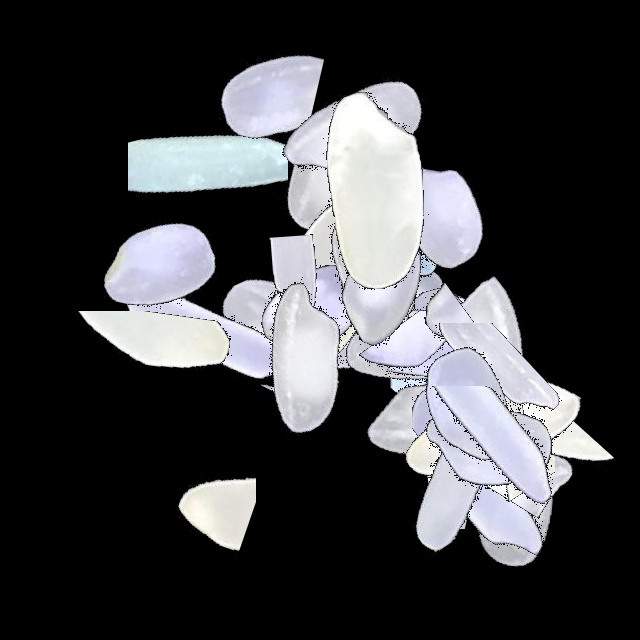Broken: (292, 121, 459, 371), (110, 4, 360, 166), (128, 79, 288, 329), (345, 386, 595, 545), (330, 388, 580, 544), (175, 129, 425, 280), (334, 323, 584, 470), (412, 281, 556, 531), (466, 310, 601, 560), (336, 309, 586, 443), (380, 383, 630, 516), (231, 176, 363, 426), (315, 311, 565, 440), (336, 324, 586, 445), (14, 311, 264, 430), (335, 341, 585, 459), (292, 412, 542, 529), (370, 268, 483, 518), (376, 224, 481, 474), (154, 368, 256, 618), (342, 409, 592, 497), (383, 304, 468, 554), (379, 223, 461, 473), (350, 318, 600, 395), (166, 320, 416, 396), (480, 326, 555, 576)
Full: (166, 202, 416, 452), (390, 370, 640, 620), (286, 173, 536, 423), (357, 364, 607, 614), (201, 165, 451, 415), (277, 188, 527, 438), (325, 224, 575, 474), (90, 209, 340, 459), (319, 221, 569, 471), (188, 183, 438, 433), (366, 224, 616, 474), (311, 299, 561, 549), (35, 138, 285, 388), (293, 222, 543, 472), (245, 156, 495, 406), (368, 308, 618, 558), (231, 5, 481, 255), (332, 364, 582, 614), (175, 234, 425, 484), (367, 316, 617, 566), (254, 161, 504, 411), (314, 91, 564, 341), (341, 282, 591, 532), (249, 64, 499, 314)
